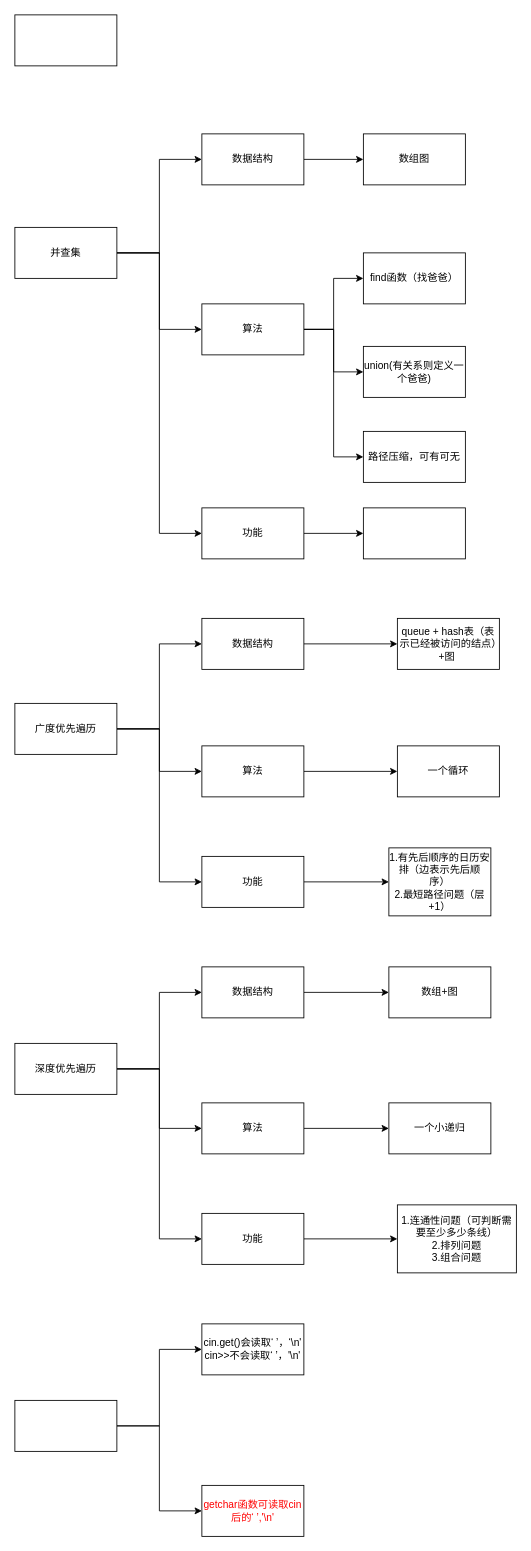
This 531x1551 diagram has some shape labels left out. Here are the shapes that lost their labels. From the top down, the centre of each, then its label:
At point (65, 40): "数据输入（数据结构的构造函数，其实也蛮重要的）".
At point (414, 533): "图的连通问题( 也可以用深度优先和广度优先来判断图是否连通 )".
At point (65, 1425): "C++一直输入int，直到遇到\n时跳出循环的写法".
